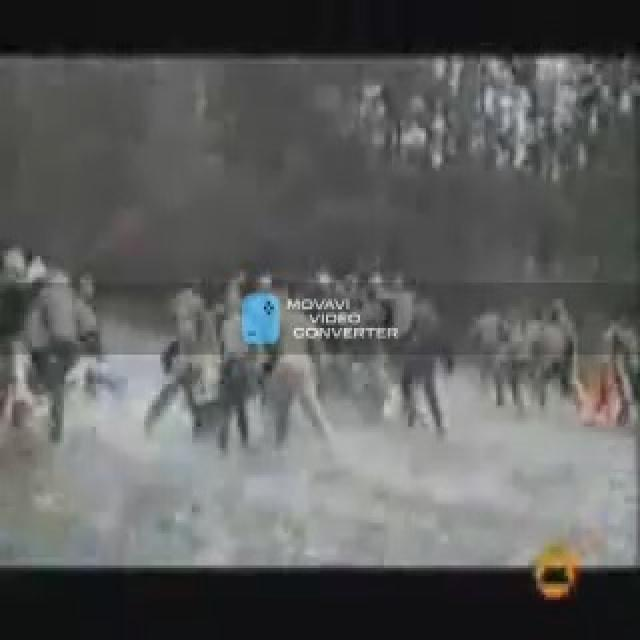non-voilence: (0, 45, 638, 576), (0, 243, 638, 461), (348, 45, 638, 184), (532, 541, 578, 600)
